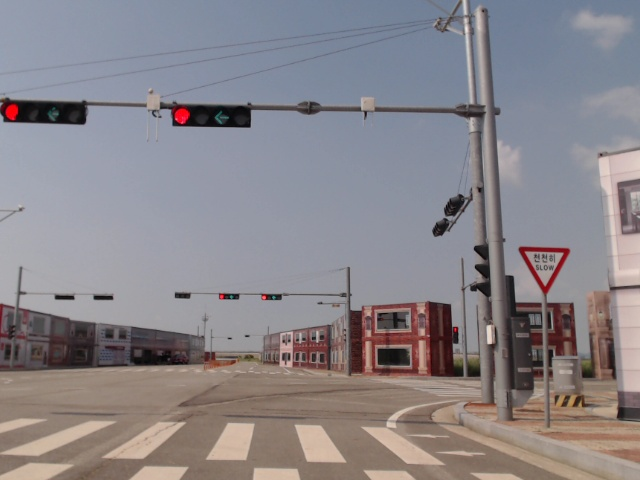left_green_4: (2, 100, 84, 124), (173, 105, 251, 127), (219, 293, 238, 299), (261, 295, 282, 300)
